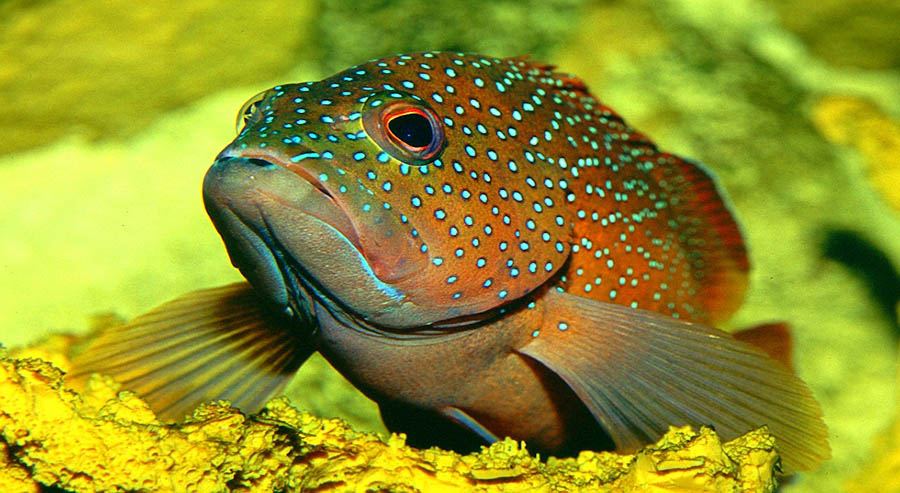Cephalopholis_fulvaw: (167, 34, 818, 456)
